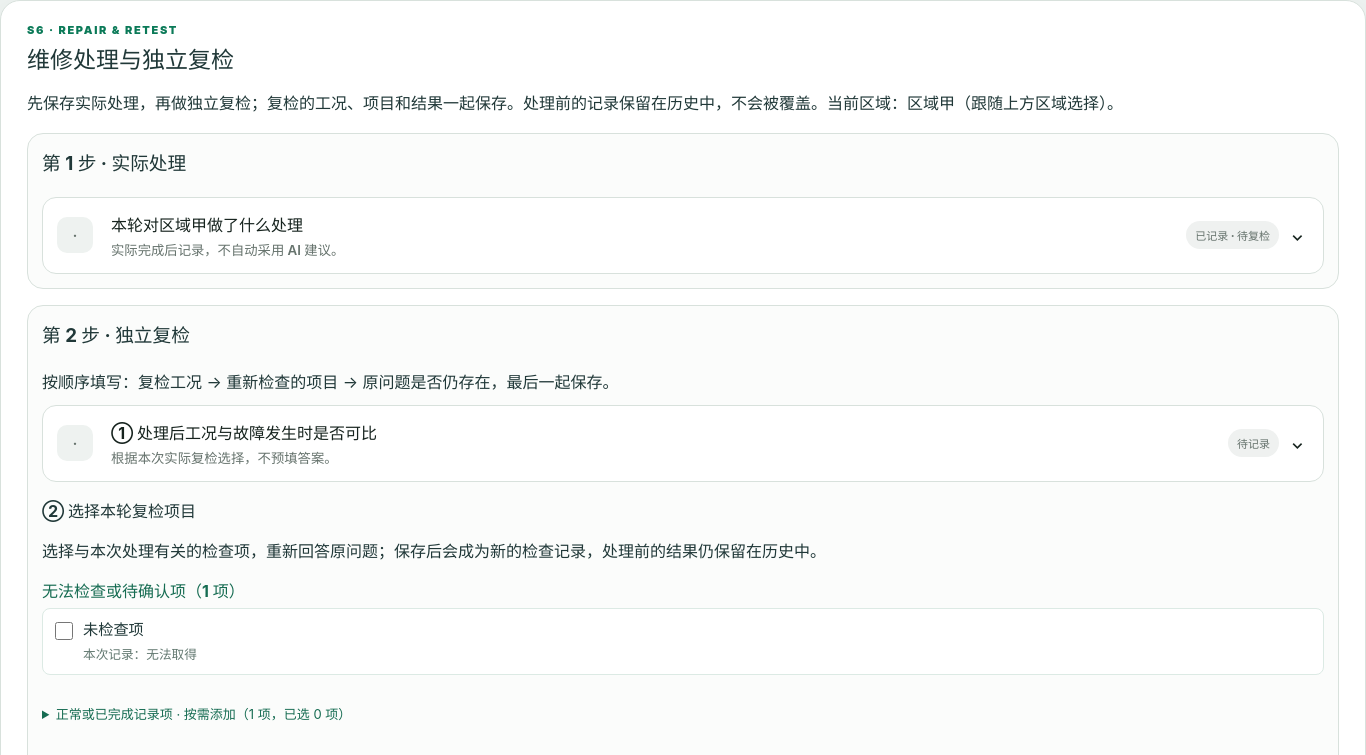
it: regroups effective answers without selecting facts and keeps normal candidates folded
Expected: the text "本次记录：无法取得" is shown, [83,645,197,664]
Step 1. Click the heading "正常或已完成记录项 · 按需添加（1 项，已选 0 项）" → click(204, 714), box [56,706,351,722]
(page scrolled)
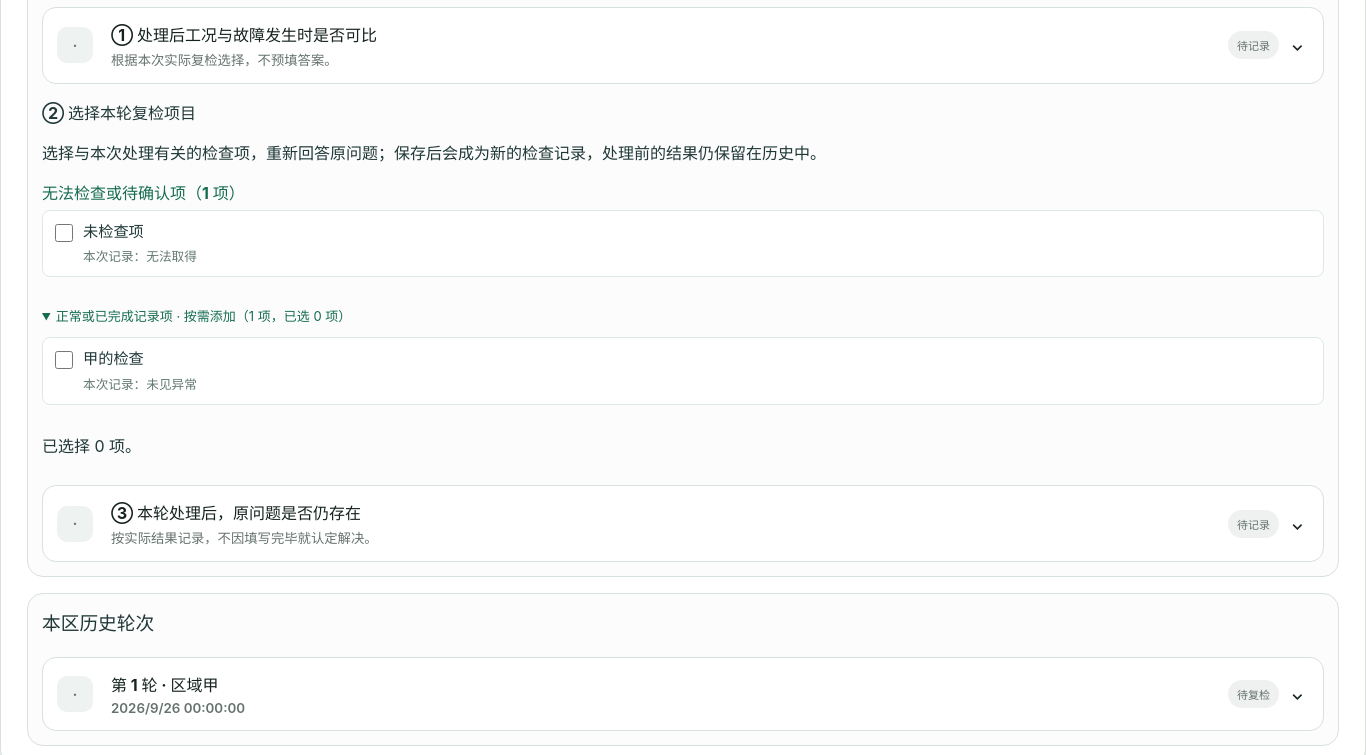
Expected: the text "本次记录：未见异常" is shown, [83,375,197,394]
